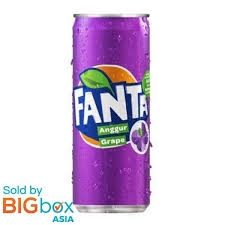fanta_can: (71, 12, 152, 213)
